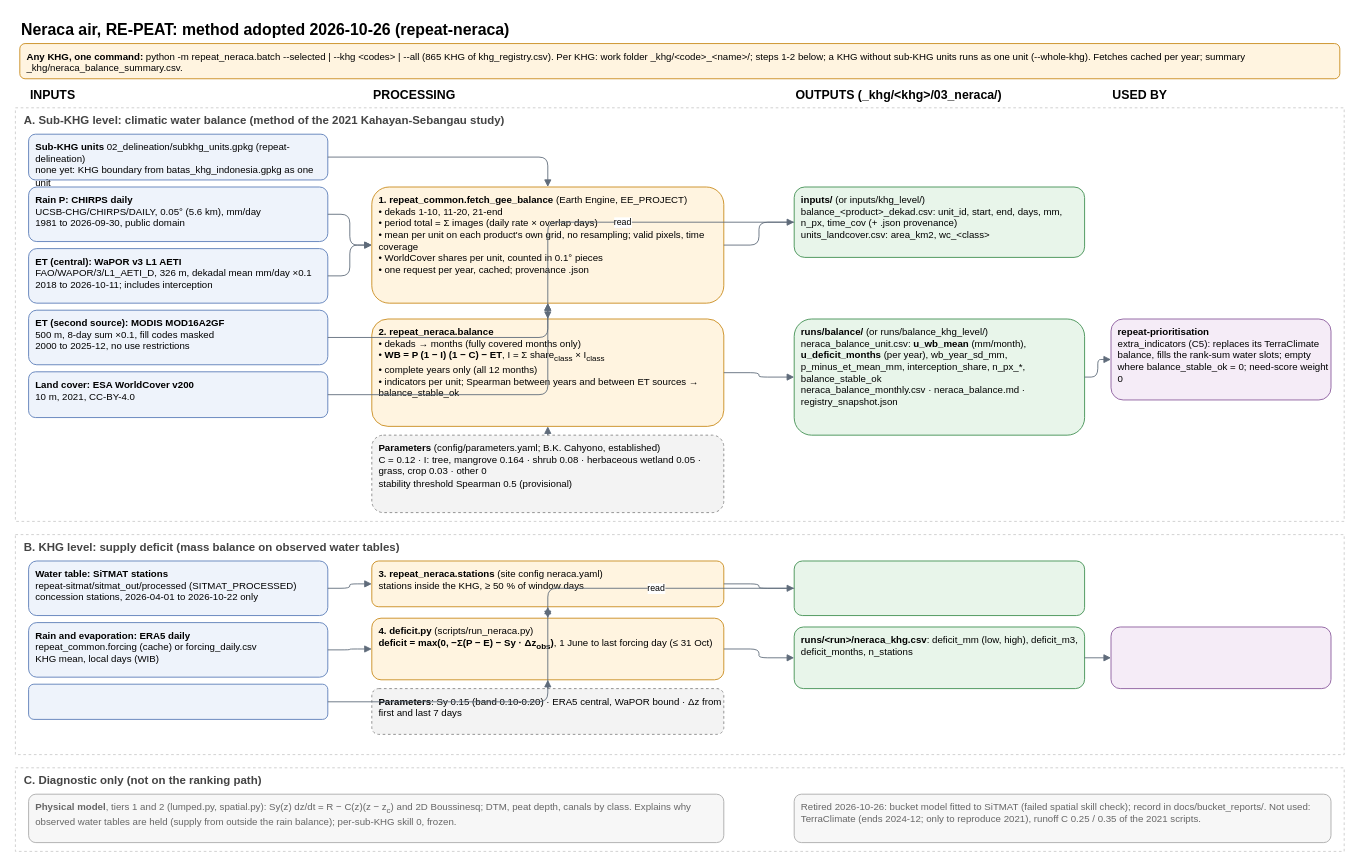
The diagram is 1360 pixels wide and 867 high, and some of its shapes have lost their labels. Here are the shapes that lost their labels. From the top down, the centre of each, then its label:
At [939,588]: "inputs/ stations.csv, stations_daily.csv (depth_cm, positive down)".
At [1220,657]: "repeat-pump (subkhg_priority.csv deficit_mm), prioritisation report".
At [178,701]: "KHG boundary 00_inputs/khg.gpkg".
